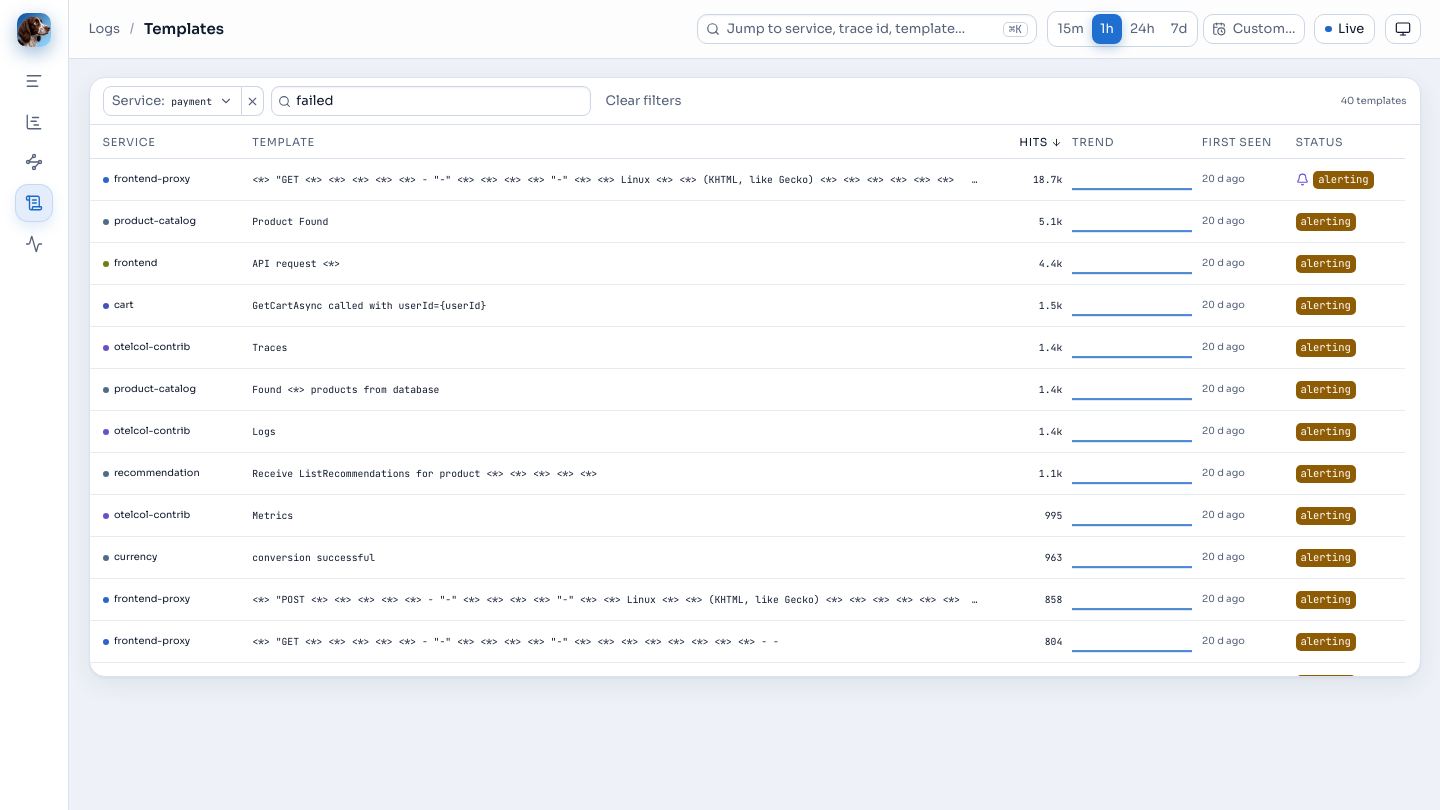
Test: log templates › reads the search and service from the URL, and clears them
Expected: the search field named "Search templates" holds "failed", 296,91 -> 583,111
Click the button "Clear filters" at (644, 101), box 598,86 -> 690,116
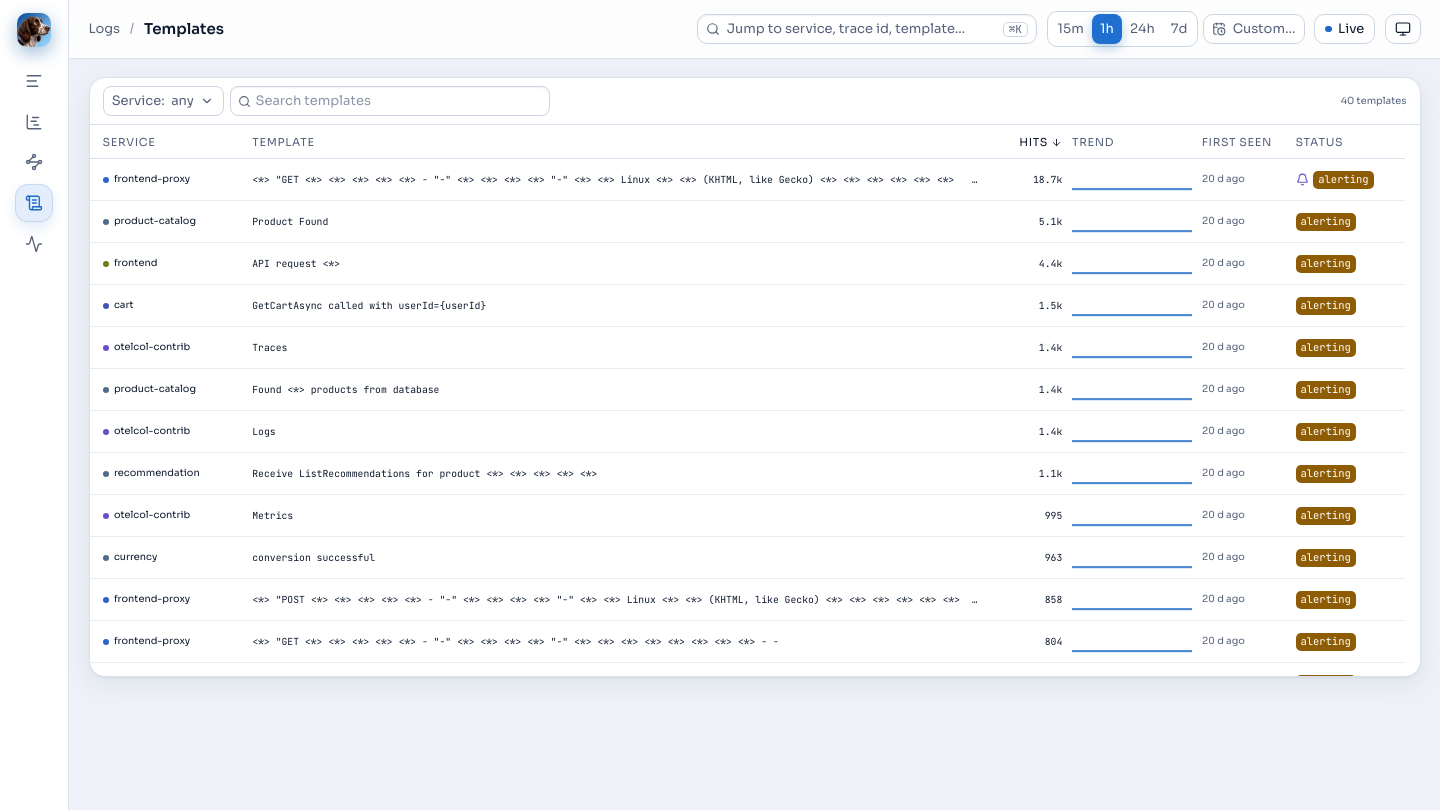
Now the search field labelled "Search templates" is empty, box 256,91 -> 543,111
